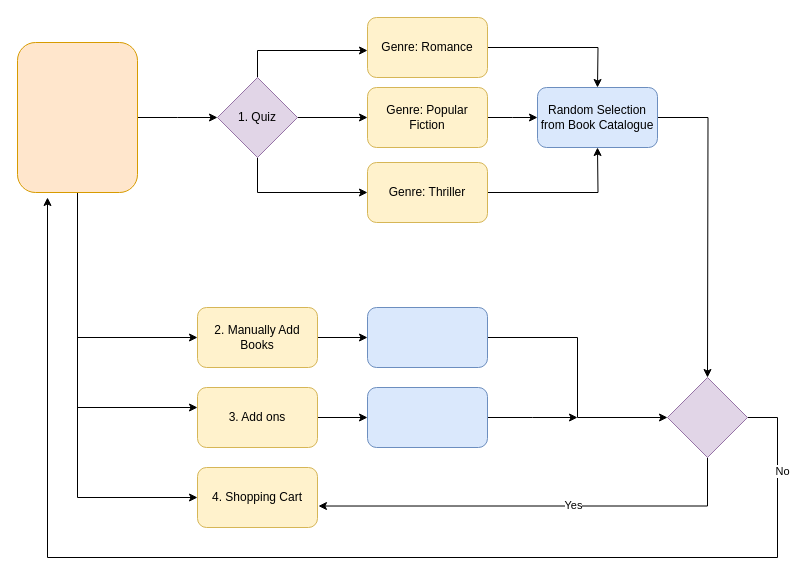
This 806x583 diagram has some shape labels left out. The centre of each missing label's shape, as x and y in pixels:
"Purchase?" belongs at (707,417).
"Show add ons" belongs at (427,417).
"Show list of books" belongs at (427,337).
"Welcome Screen Menu Option 1. Take Quiz 2. Add Books 3. Add ons 4. Cart 5. Quit" belongs at (77,117).
